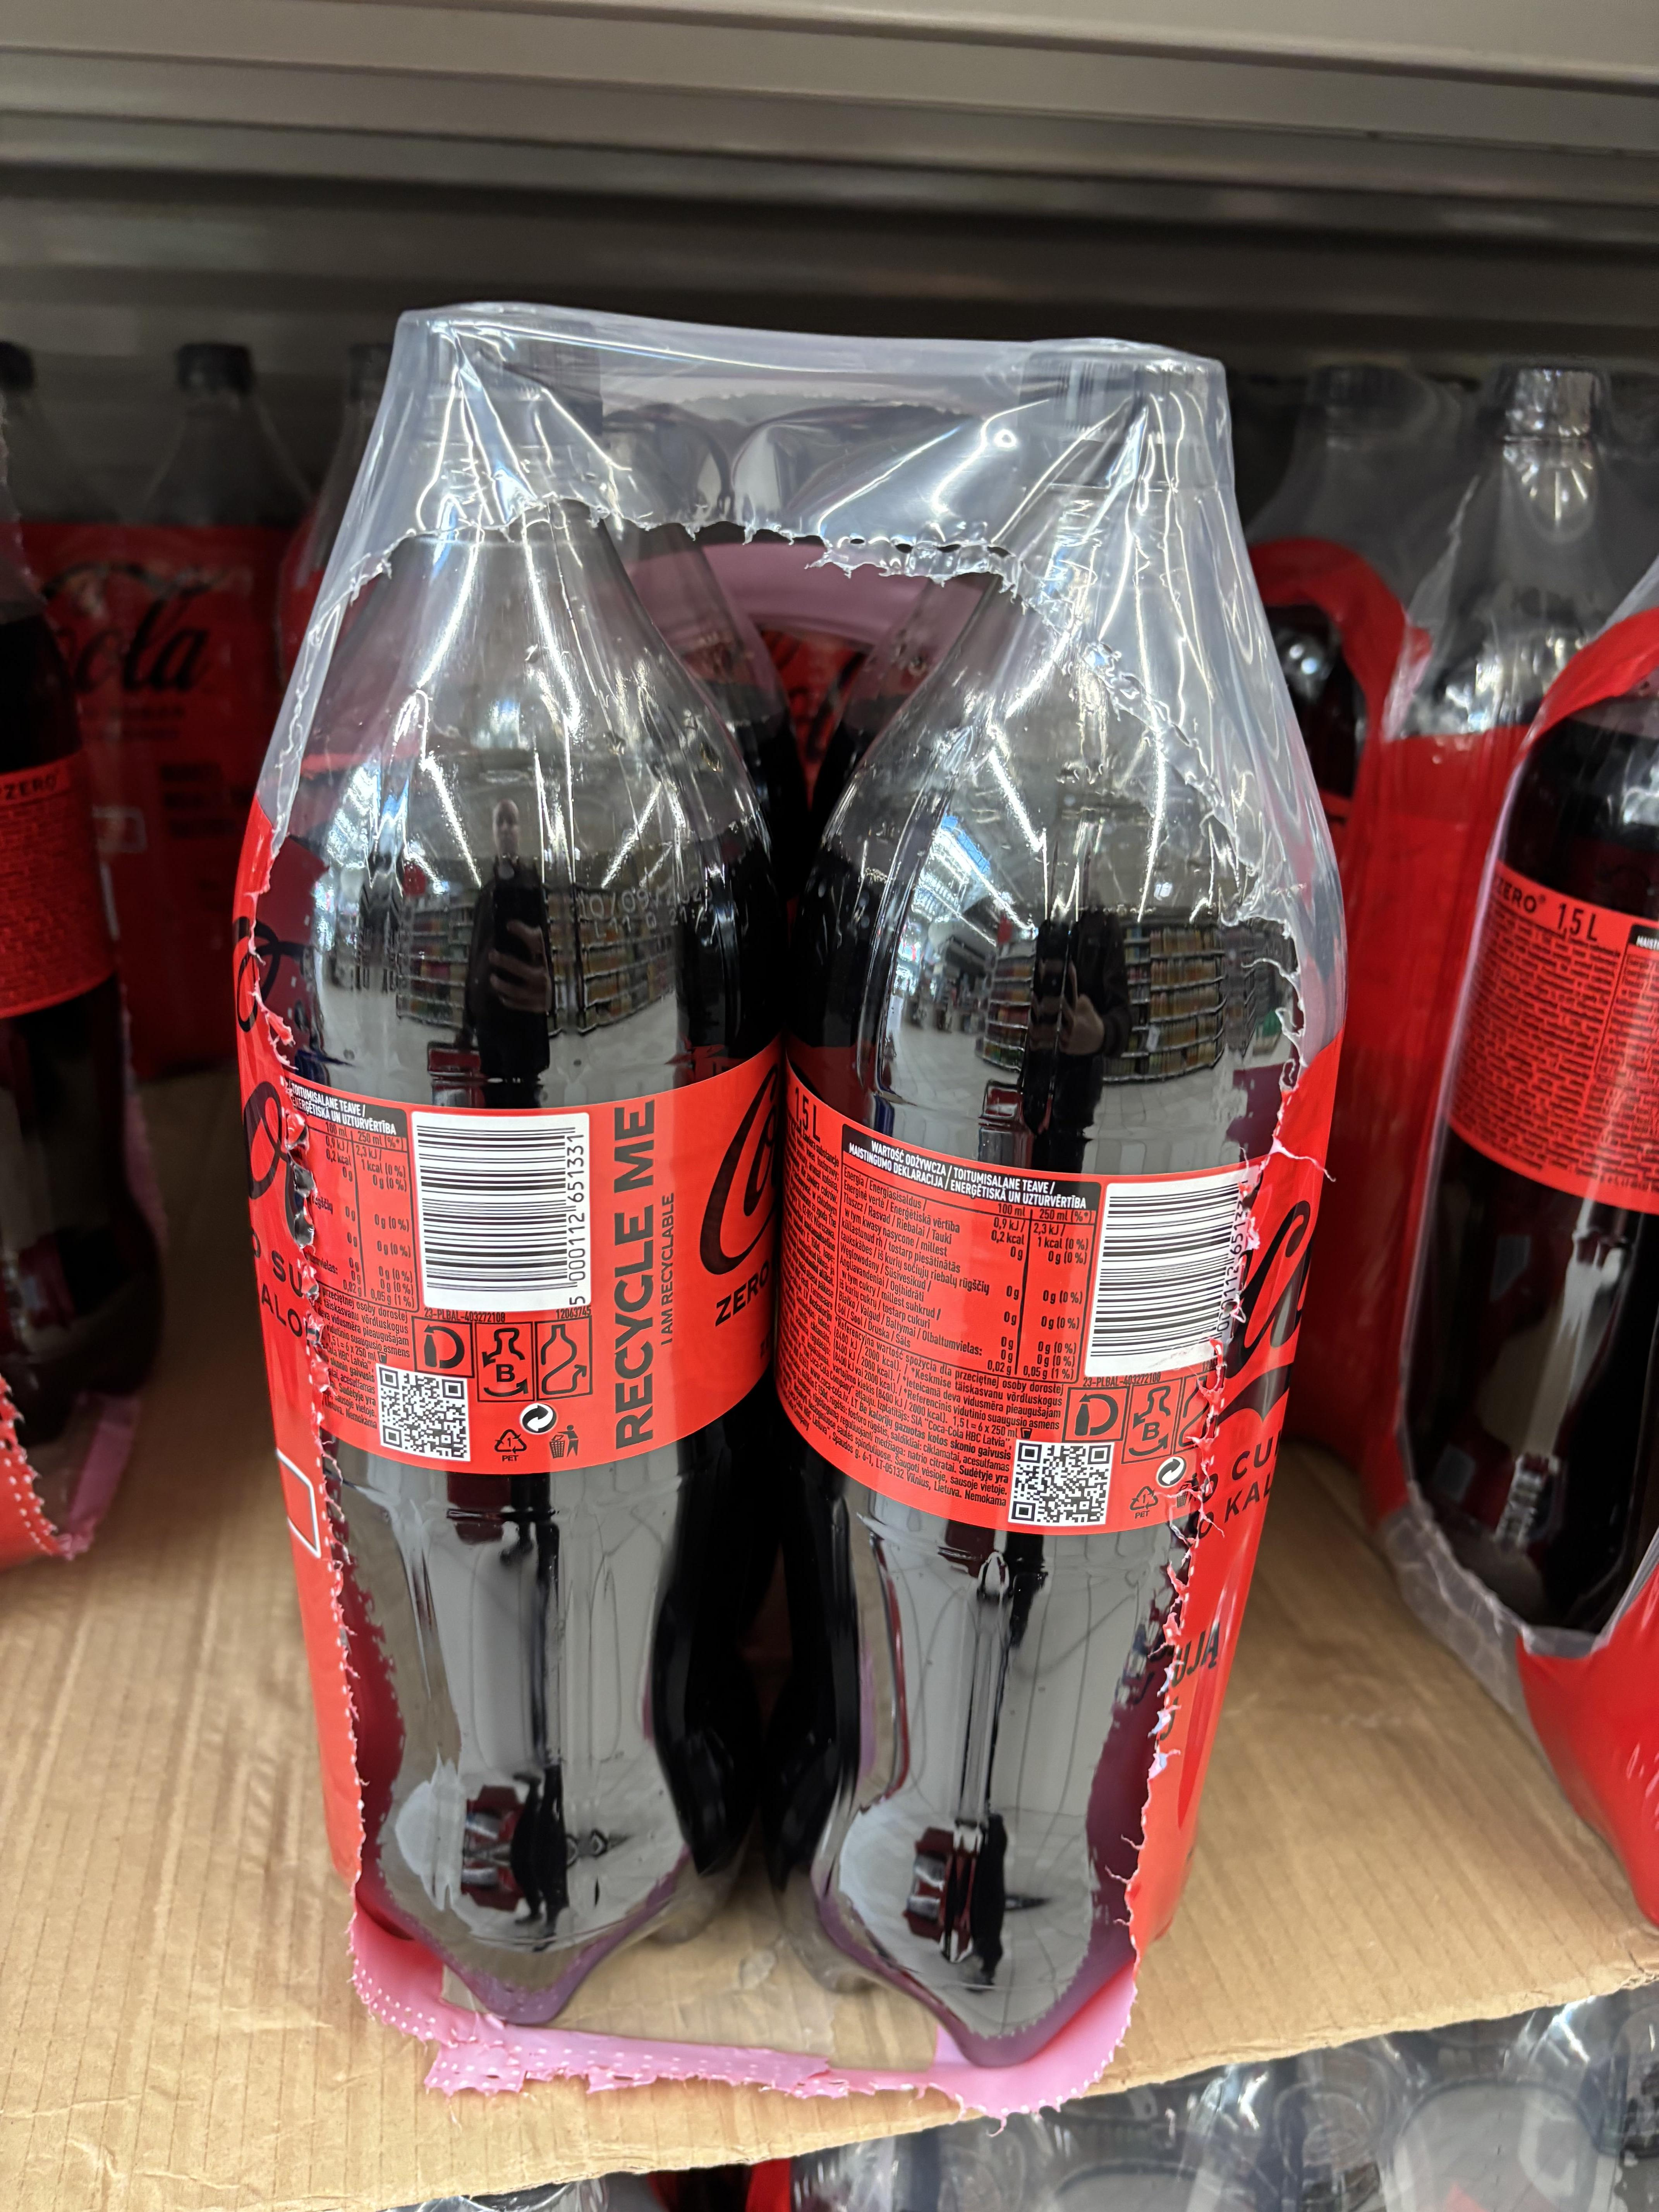Coca Cola: (261, 320, 819, 2031), (810, 402, 1286, 2047)
